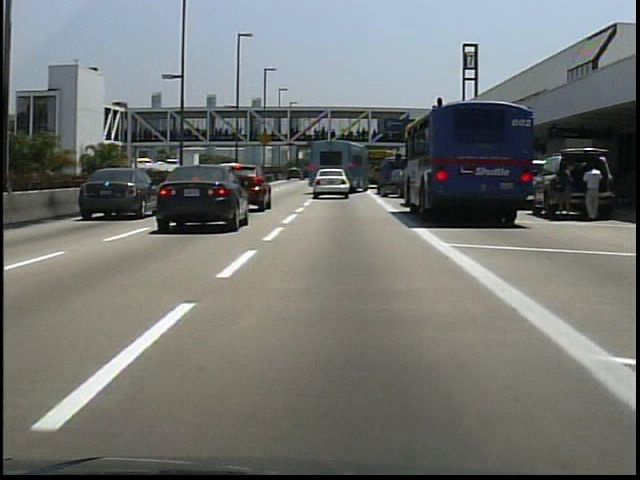person: (547, 158, 575, 223), (578, 161, 605, 226)
